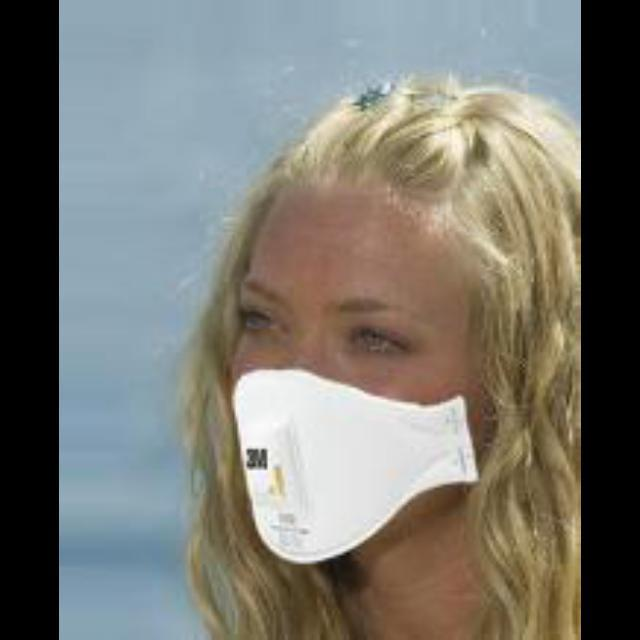suspicion: (169, 67, 571, 577)
